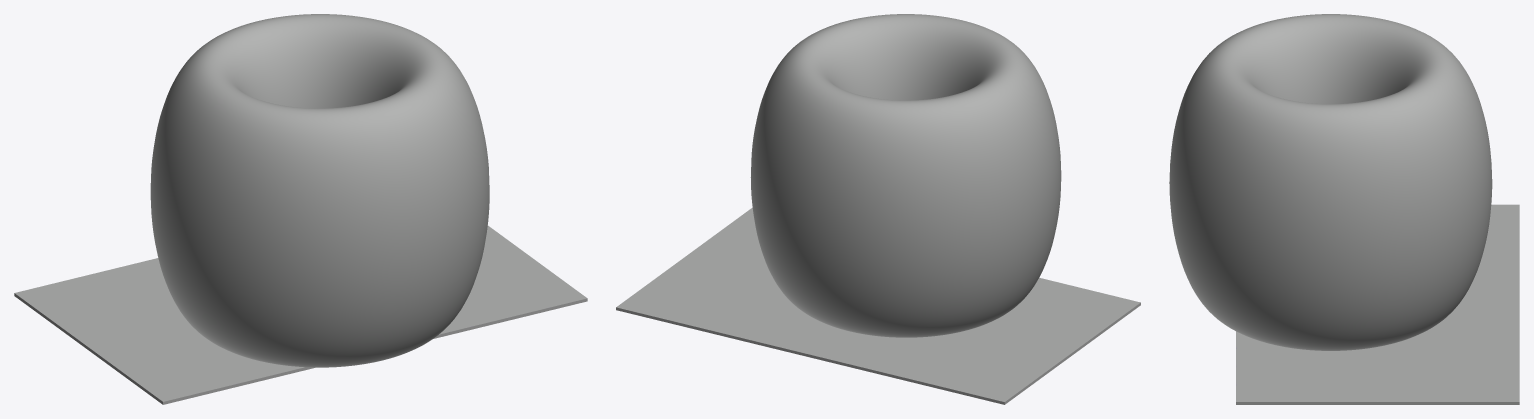
The model's file is MainMenuModel.fbx.
The picture shows the model from 3 angles, left to right: view 1: azimuth 30°, elevation 25°; view 2: azimuth 150°, elevation 25°; view 3: azimuth 270°, elevation 25°; orthographic projection. The views are drawn at different scales.
Visible parts, largest first — view 1: node_id82 (×2); view 2: node_id82 (×2); view 3: node_id82 (×2).
Part boxes in pixels (<box>): node_id82 (×2): <box>14,14,587,404</box>; node_id82 (×2): <box>616,14,1140,404</box>; node_id82 (×2): <box>1169,14,1519,404</box>.
Size of the model in its own units: 5.05 by 2.9 by 3.79.
Materials: 2 (2 with a texture image).
